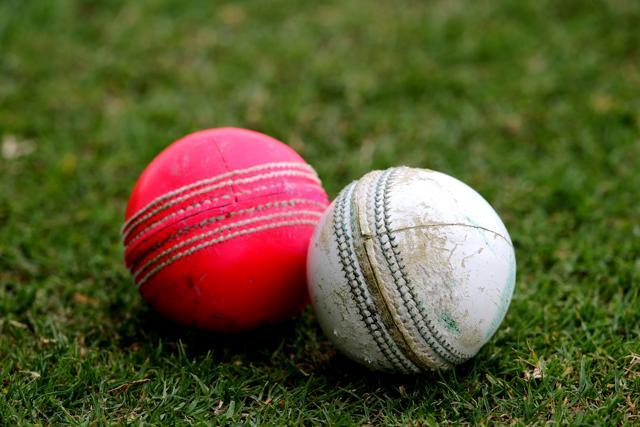red ball: (120, 123, 338, 336)
